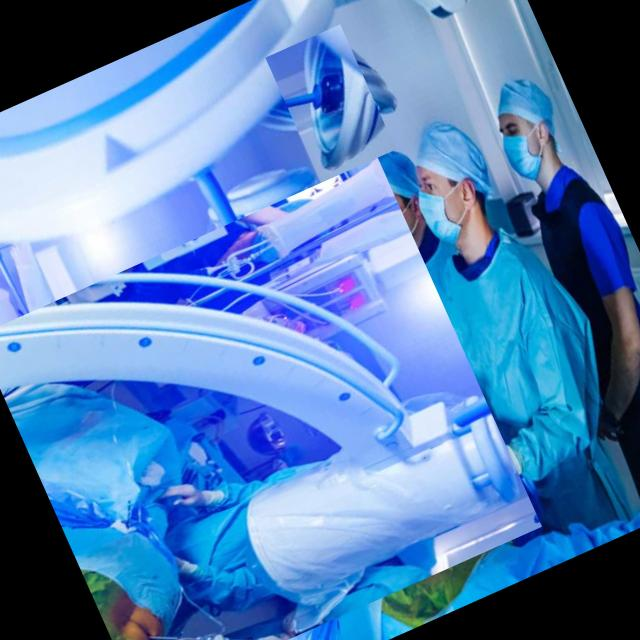C_arm: (1, 151, 535, 640)
Light: (259, 32, 404, 177)
